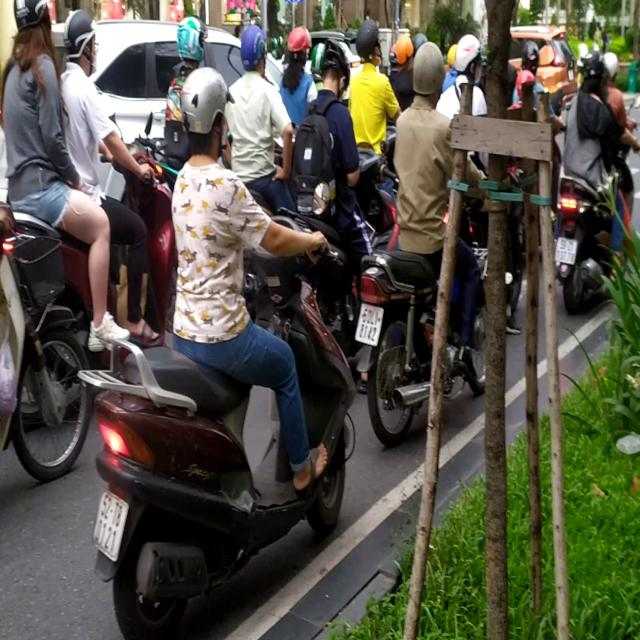bien_trang: (91, 489, 131, 564)
